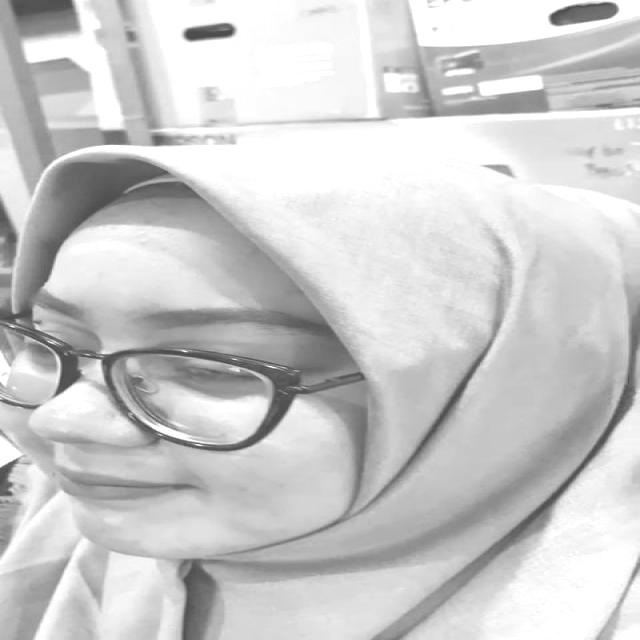real: (0, 212, 393, 559)
